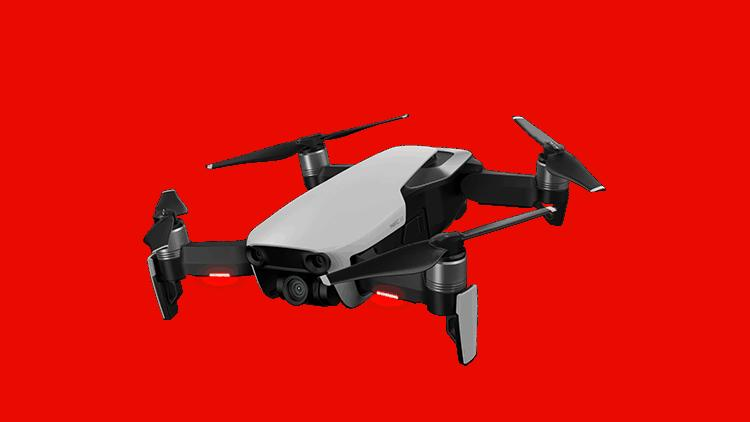drone: (131, 106, 617, 358)
